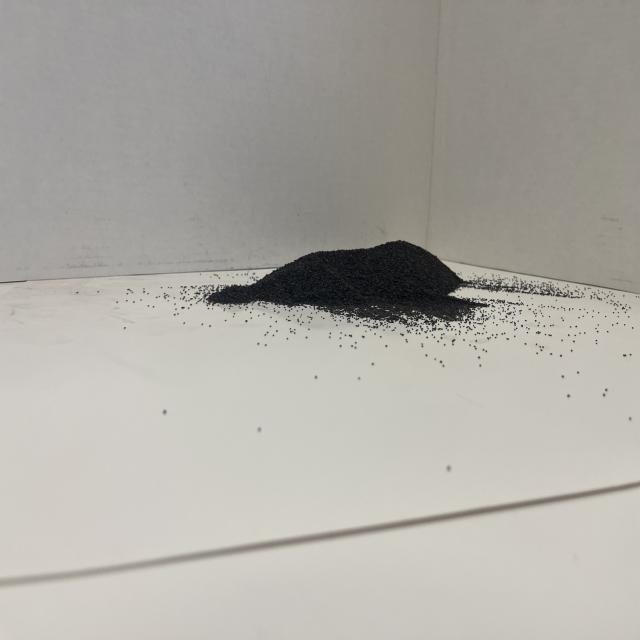Poppy Seeds: (195, 198, 532, 377)
